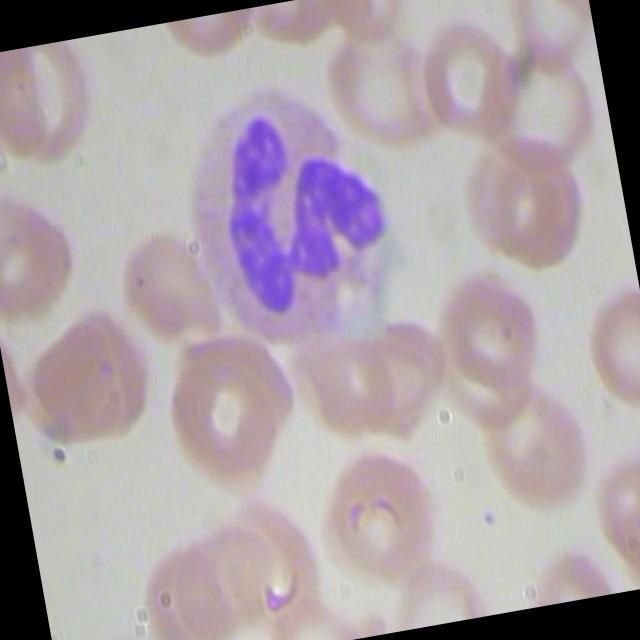RBC: (2, 298, 162, 462), (156, 336, 296, 500), (309, 436, 441, 586), (314, 12, 446, 159), (475, 370, 597, 514), (428, 250, 550, 394), (409, 5, 528, 144), (108, 217, 226, 354), (0, 37, 102, 177), (0, 184, 83, 319)
WBC: (154, 62, 418, 382)
